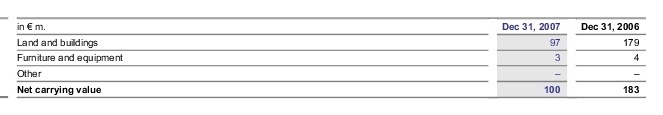table: (0, 0, 663, 115)
